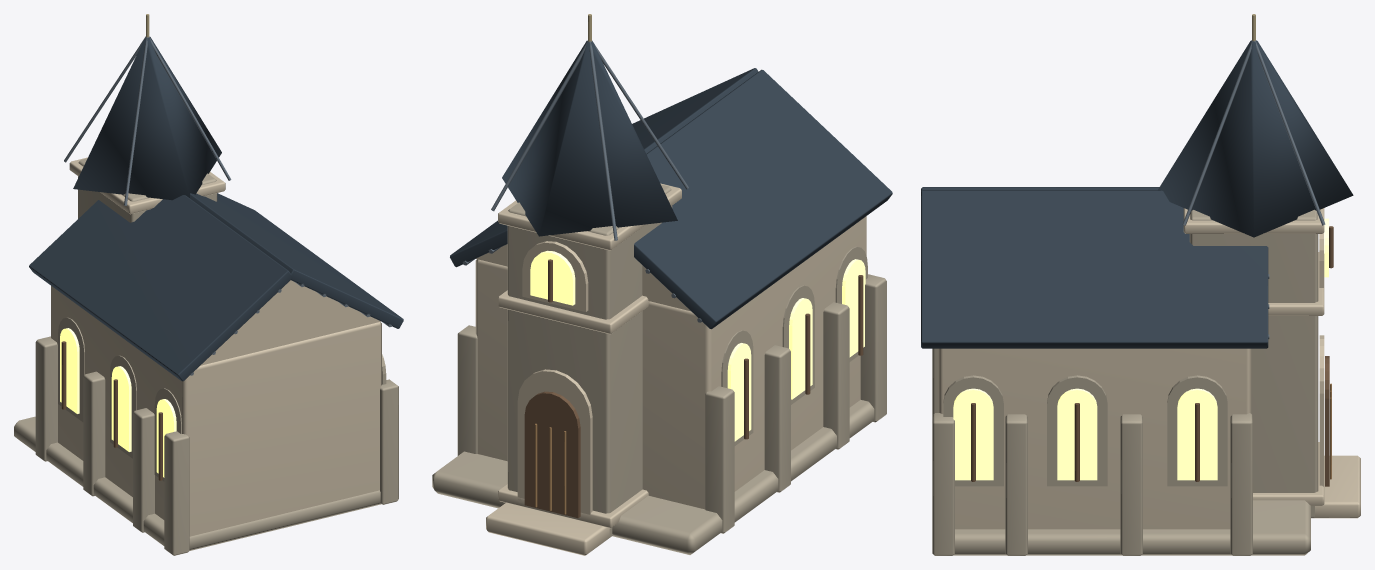
The model's file is planet_church.glb.
The picture shows the model from 3 angles, left to right: view 1: azimuth 30°, elevation 25°; view 2: azimuth 150°, elevation 25°; view 3: azimuth 270°, elevation 25°; orthographic projection. The views are drawn at different scales.
Visible parts, largest first — view 1: Nave masonry, Slate roof, Tall slate steeple, Slate roof.001, Stone foundations, Nave gables, Buttress.003, Buttress, Buttress.001, Buttress.002, Buttress.007, Amber arched glass.001 (+10 smaller); view 2: Slate roof, Nave masonry, Bell tower, Tall slate steeple, Stone foundations, Heavy oak entry, Buttress, Slate roof.001, Door stone arch, Entrance step, Buttress.002, Buttress.001 (+17 smaller); view 3: Slate roof.001, Nave masonry, Tall slate steeple, Bell tower, Stone foundations, Buttress.004, Buttress.005, Buttress.006, Amber arched glass.003, Amber arched glass.004, Buttress.007, Amber arched glass.005 (+12 smaller).
Part boxes in pixels (bbox=[...]): Nave masonry: bbox=[51, 286, 381, 536]; Slate roof: bbox=[29, 195, 292, 381]; Tall slate steeple: bbox=[73, 36, 221, 200]; Slate roof.001: bbox=[190, 193, 403, 328]; Stone foundations: bbox=[14, 416, 381, 551]; Nave gables: bbox=[200, 280, 380, 365]; Buttress.003: bbox=[164, 431, 189, 555]; Buttress: bbox=[35, 336, 57, 461]; Buttress.001: bbox=[83, 371, 105, 496]; Buttress.002: bbox=[133, 408, 154, 532]; Buttress.007: bbox=[380, 379, 398, 504]; Amber arched glass.001: bbox=[111, 366, 131, 451]; Slate roof: bbox=[634, 69, 892, 329]; Nave masonry: bbox=[475, 216, 866, 509]; Bell tower: bbox=[507, 184, 672, 537]; Tall slate steeple: bbox=[502, 40, 677, 236]; Stone foundations: bbox=[432, 400, 874, 554]; Heavy oak entry: bbox=[524, 391, 580, 518]; Buttress: bbox=[705, 386, 734, 533]; Slate roof.001: bbox=[450, 68, 758, 267]; Door stone arch: bbox=[517, 369, 592, 514]; Entrance step: bbox=[486, 502, 609, 555]; Buttress.002: bbox=[823, 302, 849, 449]; Buttress.001: bbox=[764, 345, 790, 492]; Slate roof.001: bbox=[921, 190, 1268, 348]; Nave masonry: bbox=[938, 348, 1251, 529]; Tall slate steeple: bbox=[1158, 40, 1353, 237]; Bell tower: bbox=[1189, 209, 1318, 518]; Stone foundations: bbox=[953, 500, 1310, 555]; Buttress.004: bbox=[1230, 413, 1252, 555]; Buttress.005: bbox=[1120, 414, 1142, 555]; Buttress.006: bbox=[1005, 414, 1027, 555]; Amber arched glass.003: bbox=[1177, 388, 1217, 480]; Amber arched glass.004: bbox=[1057, 388, 1097, 480]; Buttress.007: bbox=[932, 413, 954, 555]; Amber arched glass.005: bbox=[953, 388, 993, 480].
Bounding box in the file's own units: 2.95 × 5.16 × 4.28.
